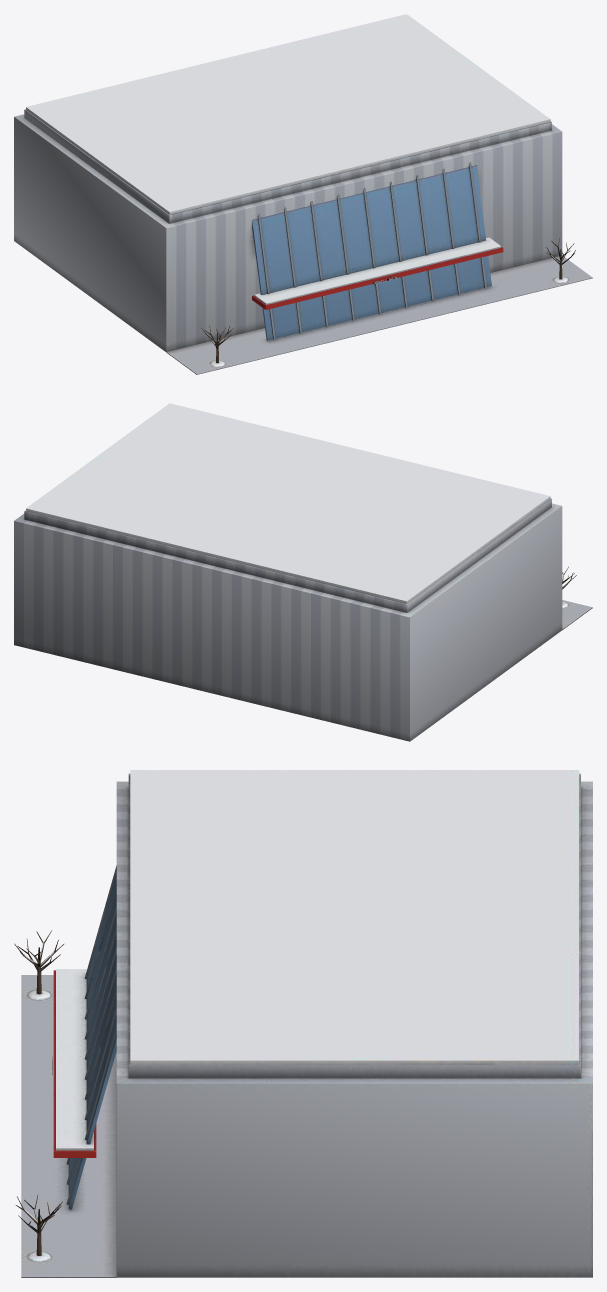
File: arena.glb
3 renders of one model, top to bottom at view 1: azimuth 30°, elevation 25°; view 2: azimuth 150°, elevation 25°; view 3: azimuth 270°, elevation 25°, orthographic. The views are drawn at different scales.
Parts seen in each view (by area): view 1: arena; view 2: arena; view 3: arena.
Boxes of the visible parts, <box> form: arena: <box>14,14,592,374</box>; arena: <box>14,403,592,741</box>; arena: <box>14,770,592,1277</box>.
Size of the model in its own units: 60 by 19.87 by 48.62.
Materials: 1 (1 with a texture image).
